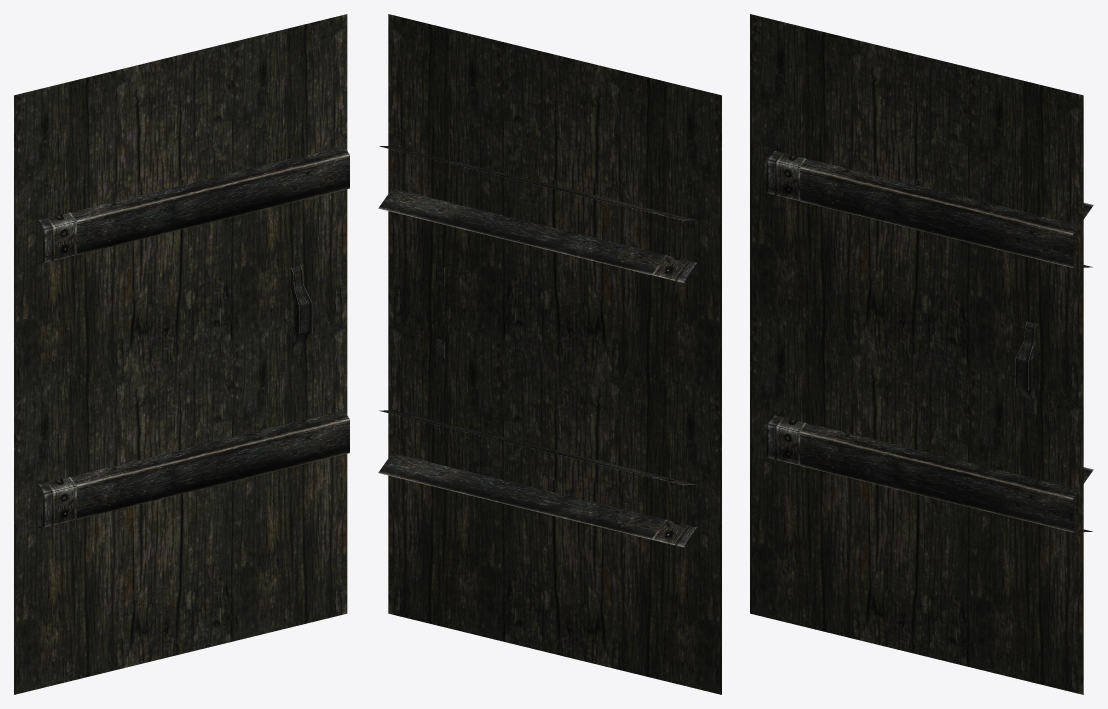
The model's file is ex_nord_door_01.dae.
3 renders of one model, left to right at view 1: azimuth 30°, elevation 25°; view 2: azimuth 150°, elevation 25°; view 3: azimuth 330°, elevation 25°, orthographic.
Parts seen in each view (by area): view 1: nifid_1-matrix, nifid_6-matrix, nifid_11-matrix; view 2: nifid_1-matrix, nifid_6-matrix, nifid_11-matrix; view 3: nifid_1-matrix, nifid_6-matrix, nifid_11-matrix.
Boxes of the visible parts, x1=… form: nifid_1-matrix: x1=14, y1=14, x2=347, y2=694; nifid_6-matrix: x1=71, y1=146, x2=349, y2=519; nifid_11-matrix: x1=37, y1=212, x2=76, y2=527; nifid_1-matrix: x1=388, y1=14, x2=721, y2=694; nifid_6-matrix: x1=378, y1=145, x2=664, y2=539; nifid_11-matrix: x1=651, y1=212, x2=698, y2=547; nifid_1-matrix: x1=750, y1=14, x2=1083, y2=694; nifid_6-matrix: x1=800, y1=158, x2=1093, y2=532; nifid_11-matrix: x1=766, y1=150, x2=806, y2=465.
Size of the model in its own units: 114 by 14.24 by 197.
Materials: 3 (3 with a texture image).
